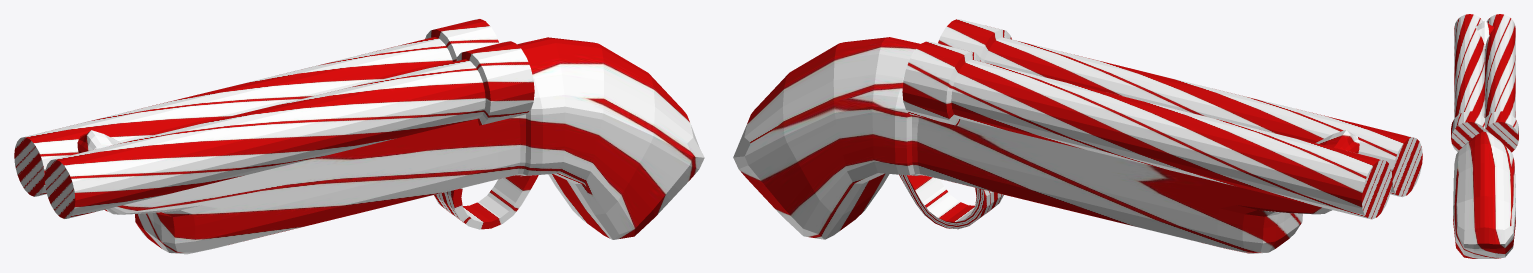
Rendered from Escopeta (1).fbx.
The picture shows the model from 3 angles, left to right: view 1: azimuth 30°, elevation 25°; view 2: azimuth 150°, elevation 25°; view 3: azimuth 270°, elevation 25°; orthographic projection. The views are drawn at different scales.
Parts seen in each view (by area): view 1: Cube.001, Cylinder.003, Cylinder.002, Cylinder; view 2: Cube.001, Cylinder.002, Cylinder.003, Cylinder; view 3: Cube.001, Cylinder.002, Cylinder.003.
Part boxes in pixels (x1=…): Cube.001: x1=77, y1=37, x2=704, y2=254; Cylinder.003: x1=44, y1=41, x2=534, y2=218; Cylinder.002: x1=14, y1=18, x2=498, y2=196; Cylinder: x1=434, y1=175, x2=538, y2=229; Cube.001: x1=733, y1=37, x2=1359, y2=253; Cylinder.002: x1=902, y1=41, x2=1392, y2=219; Cylinder.003: x1=938, y1=19, x2=1422, y2=197; Cylinder: x1=899, y1=174, x2=1003, y2=229; Cube.001: x1=1453, y1=20, x2=1515, y2=258; Cylinder.002: x1=1483, y1=14, x2=1518, y2=152; Cylinder.003: x1=1451, y1=14, x2=1484, y2=151.
Size of the model in its own units: 16.99 by 5.56 by 3.1.
